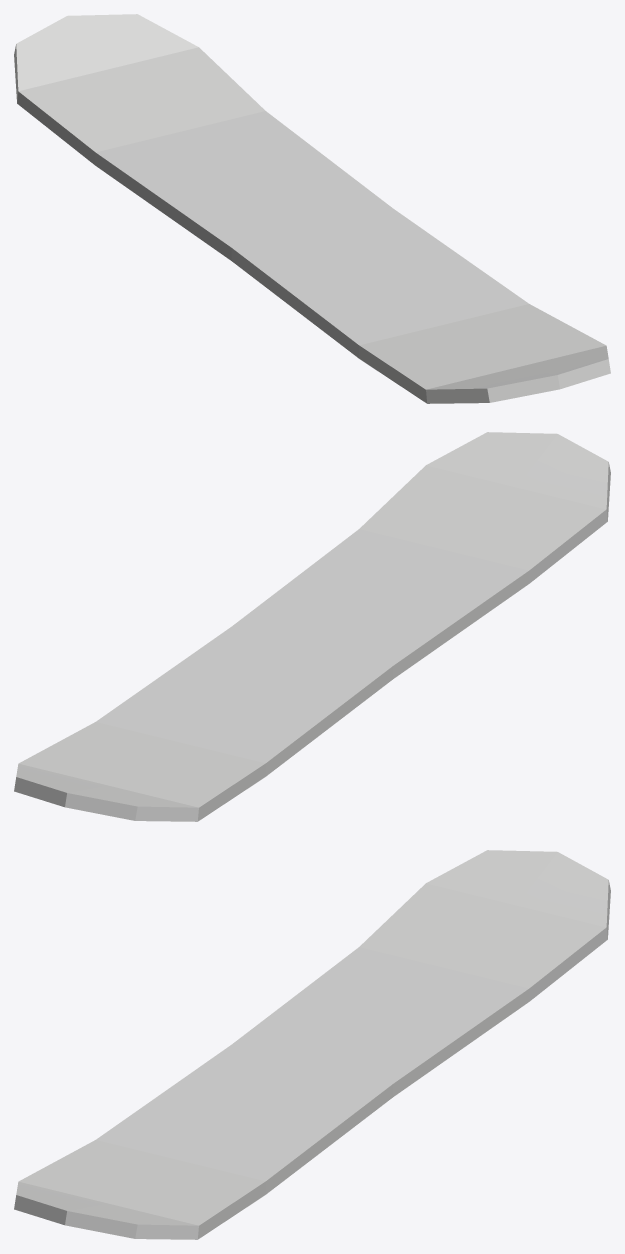
Rendered from snowboard.glb.
3 views of the same model, one above another, from view 1: azimuth 30°, elevation 25°; view 2: azimuth 150°, elevation 25°; view 3: azimuth 330°, elevation 25° (orthographic).
Parts seen in each view (by area): view 1: snowboard; view 2: snowboard; view 3: snowboard.
Boxes of the visible parts, x1,y1,x2,y2 form: snowboard: (14, 14, 610, 403); snowboard: (14, 432, 610, 821); snowboard: (14, 850, 610, 1239).
Bounding box in the file's own units: 0.3658 × 0.0894 × 1.74.
1 material, 1 textured.
